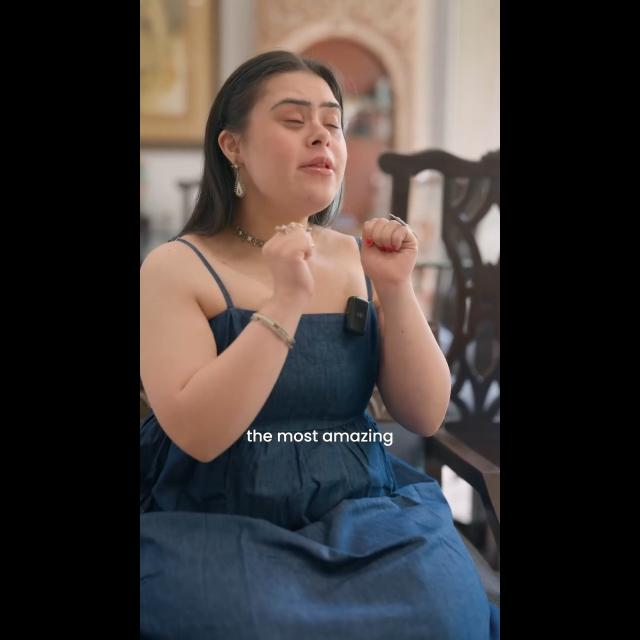dress: (167, 233, 478, 637)
ear ring: (229, 165, 247, 198)
